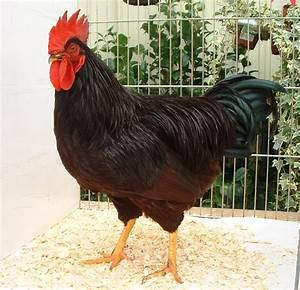hen: (46, 8, 286, 284)
